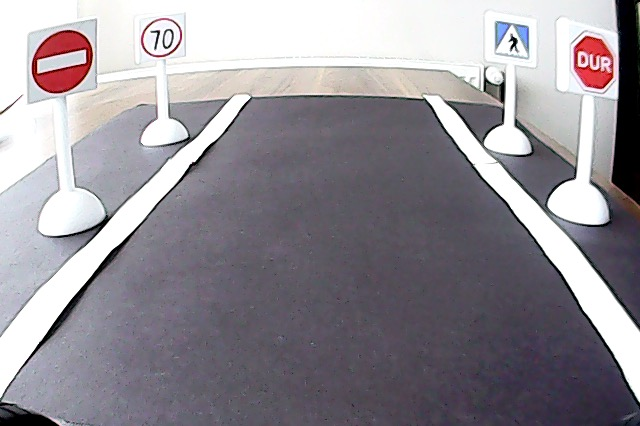do not enter: (27, 29, 96, 96)
pedestrian crossing: (488, 16, 535, 64)
speed limit 70: (135, 18, 187, 59)
stop sign: (564, 19, 616, 94)
